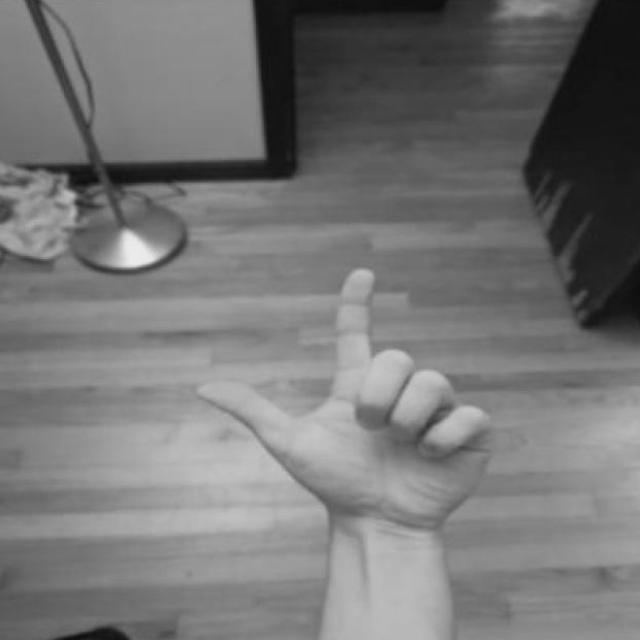L: (193, 261, 507, 537)
